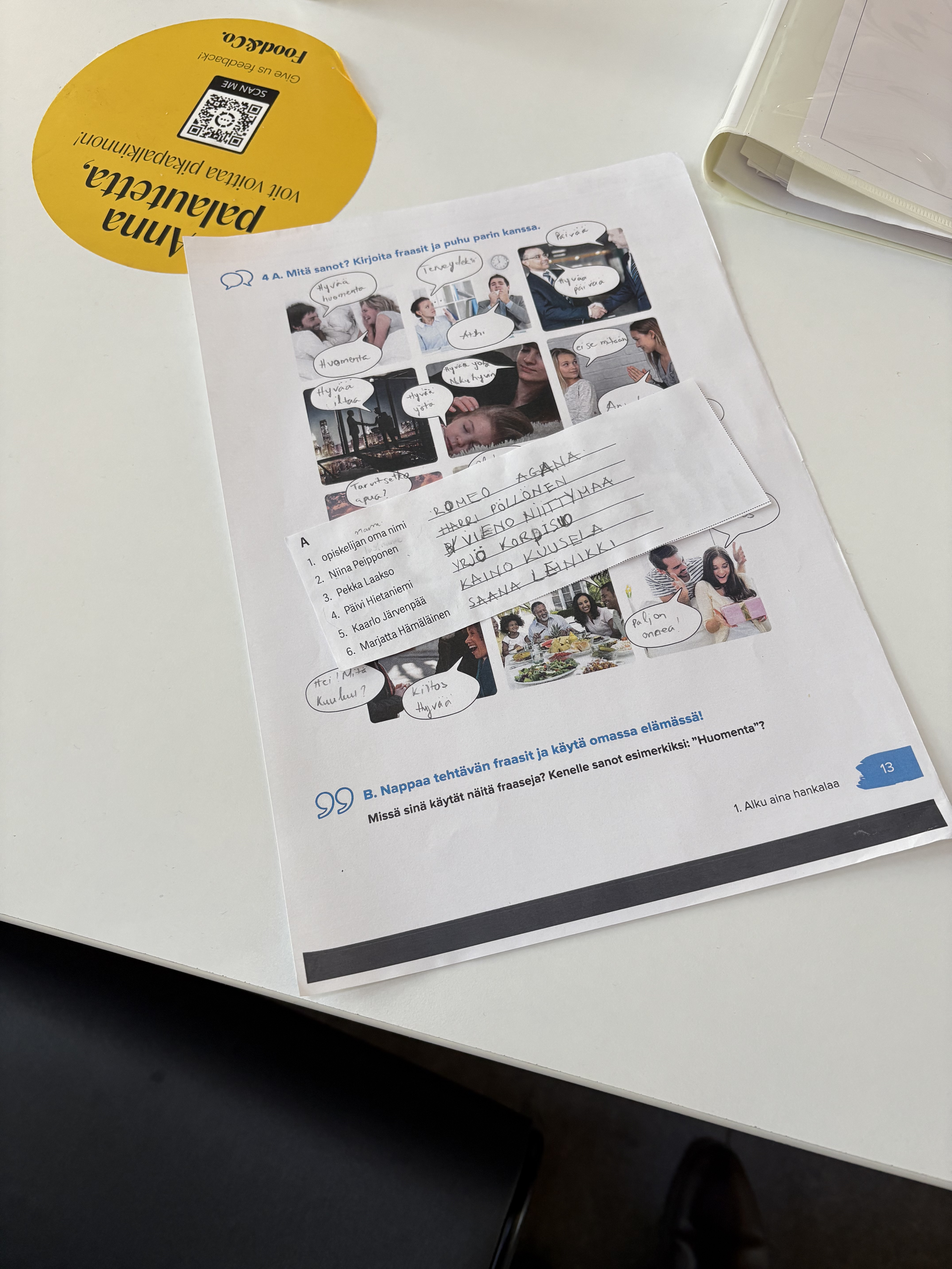paper: (187, 149, 950, 994)
